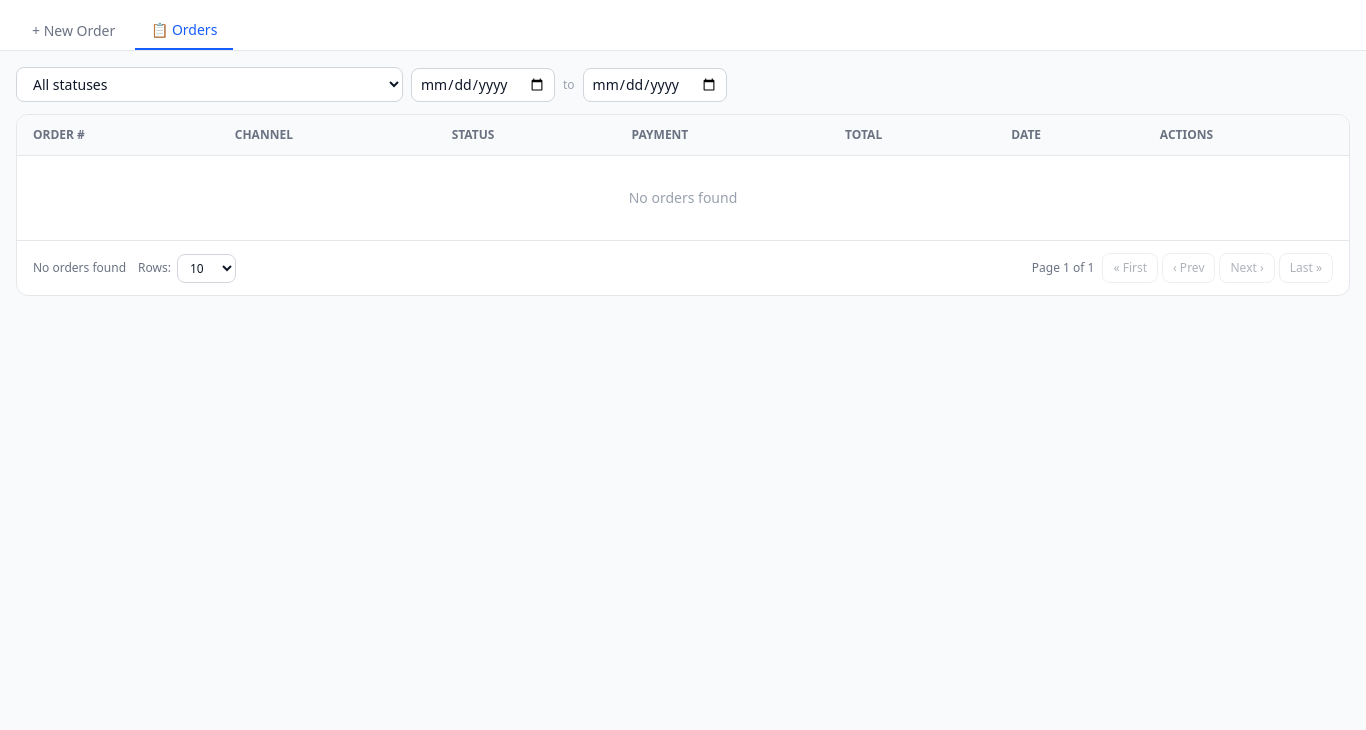
Scenario: stock › cannot take more than the book's available stock
Click the button "+ New Order" at (74, 31), box [16, 12, 131, 50]
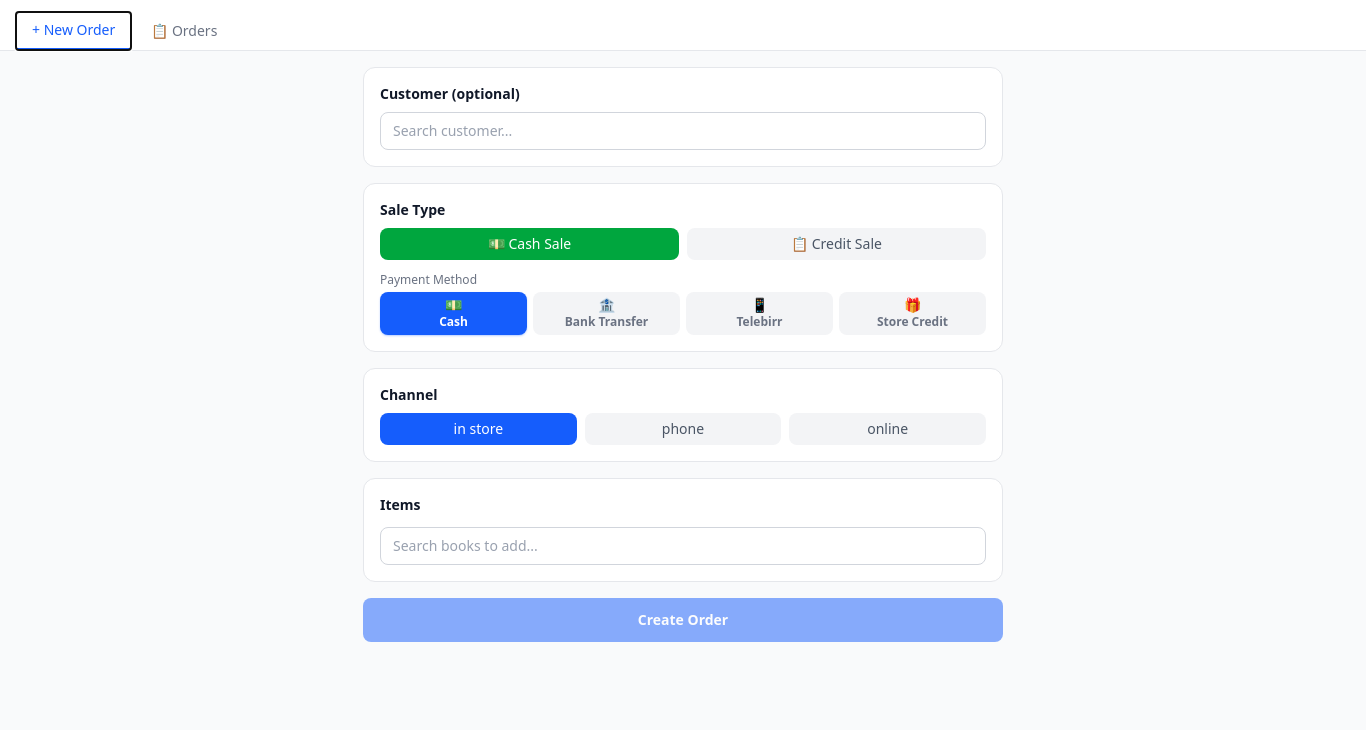
Type "Fikir" into the field with placeholder "Search books to add..." at (683, 546), box [380, 527, 986, 565]
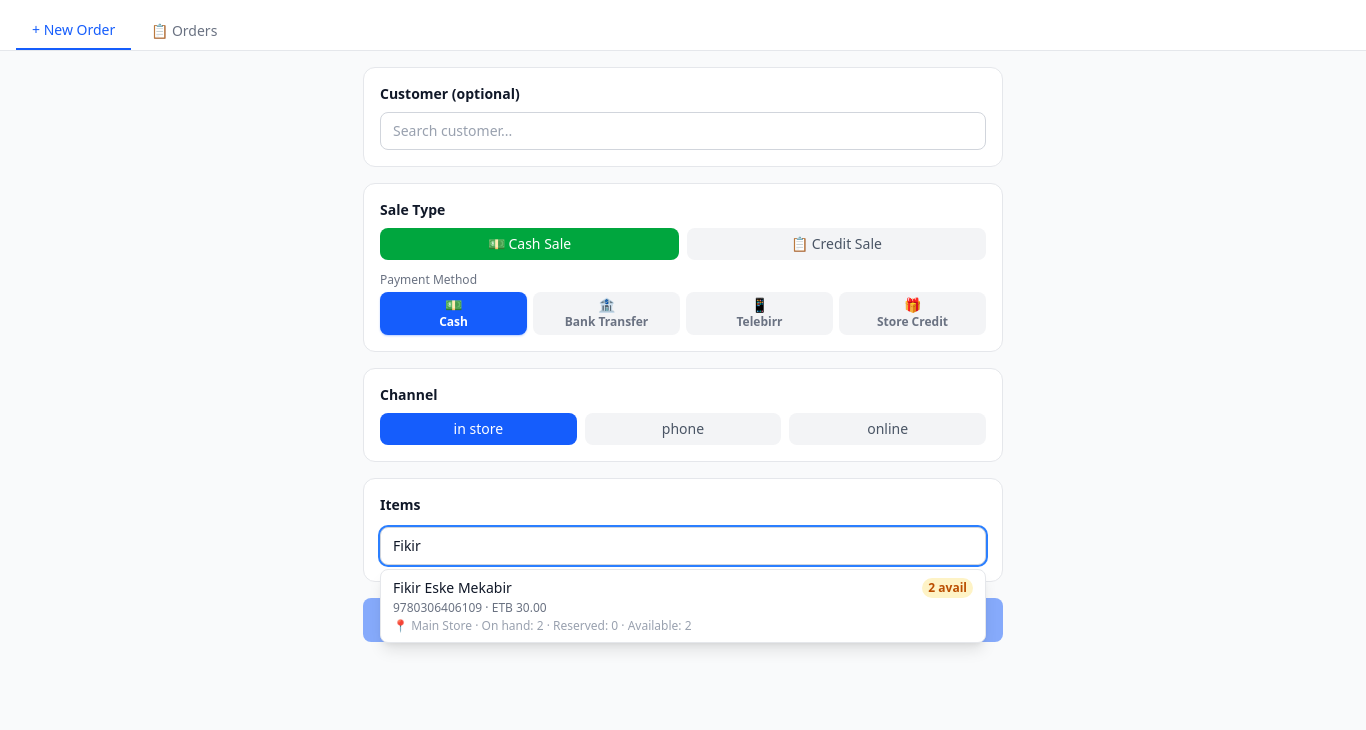
Click the text "Fikir Eske Mekabir" at (452, 588), box [393, 578, 512, 598]
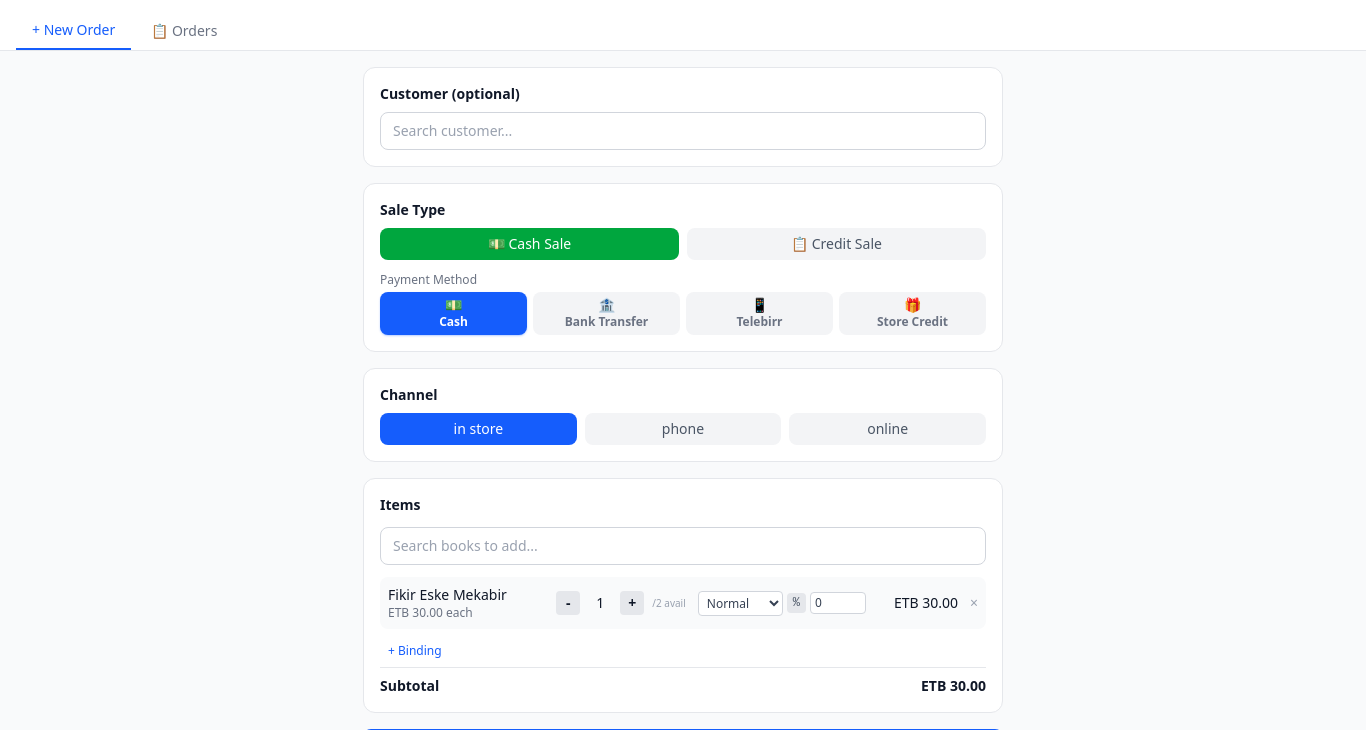
Click the button named "One more Fikir Eske Mekabir" at (632, 603), box [620, 591, 644, 615]
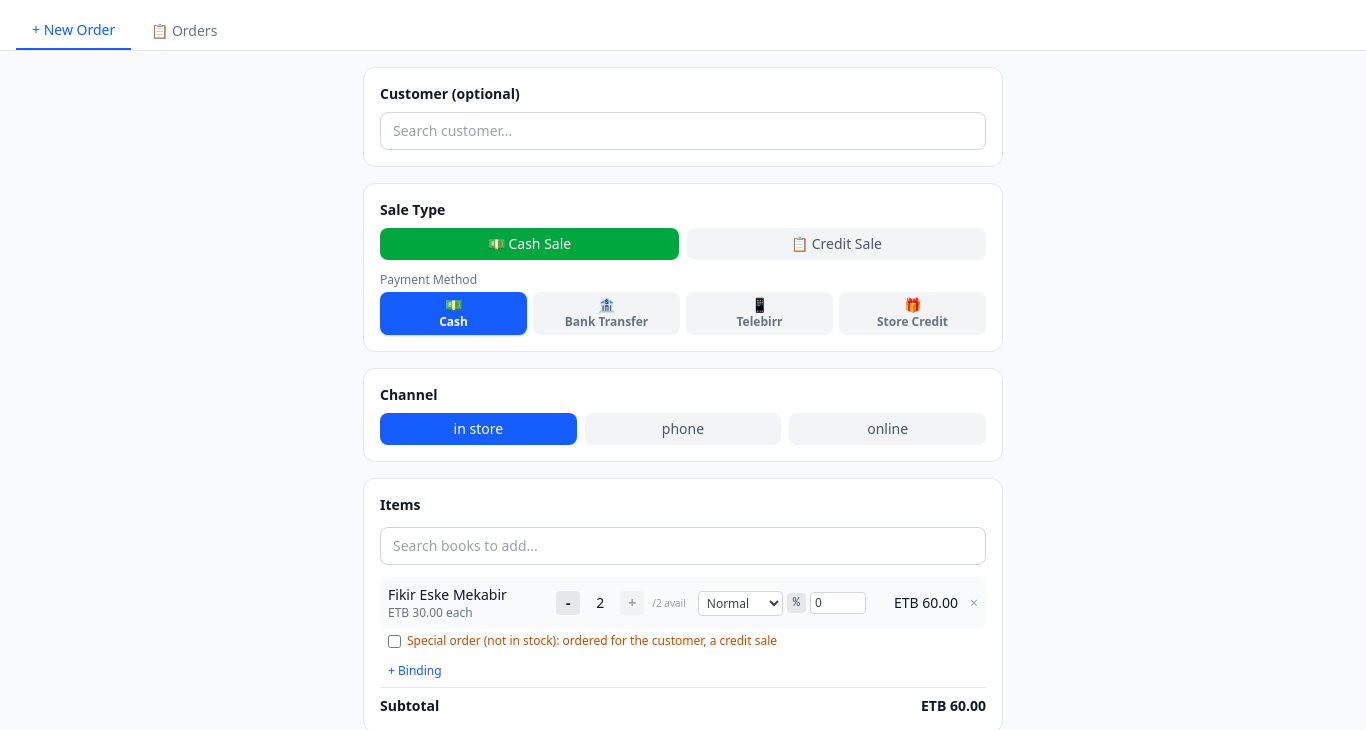
Check: the button named "One more Fikir Eske Mekabir" is disabled, box [620, 591, 644, 615]
Check: the text "2" is shown, box [596, 593, 604, 612]
